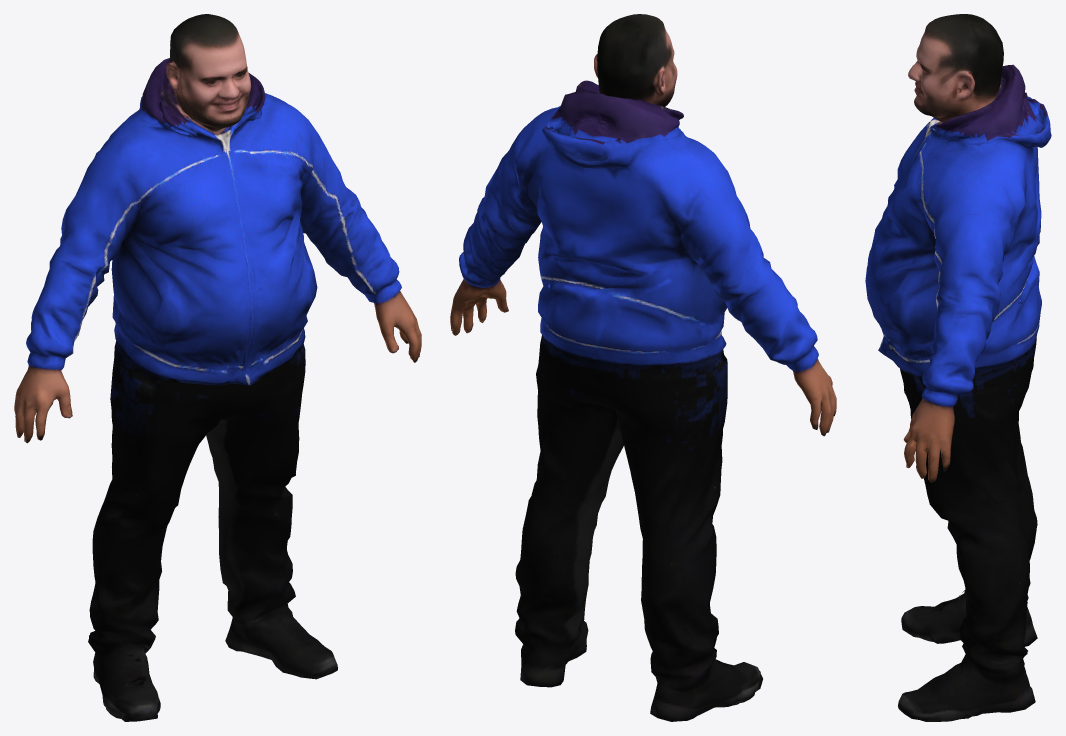
The model's file is kamel.glb.
3 views of the same model, side by side, from view 1: azimuth 30°, elevation 25°; view 2: azimuth 150°, elevation 25°; view 3: azimuth 270°, elevation 25° (orthographic).
Parts seen in each view (by area): view 1: body; view 2: body; view 3: body.
Boxes of the visible parts, <box> form: body: <box>14,14,421,721</box>; body: <box>450,14,836,721</box>; body: <box>865,14,1051,721</box>.
Size of the model in its own units: 1.11 by 1.8 by 0.4627.
1 material, 1 textured.
